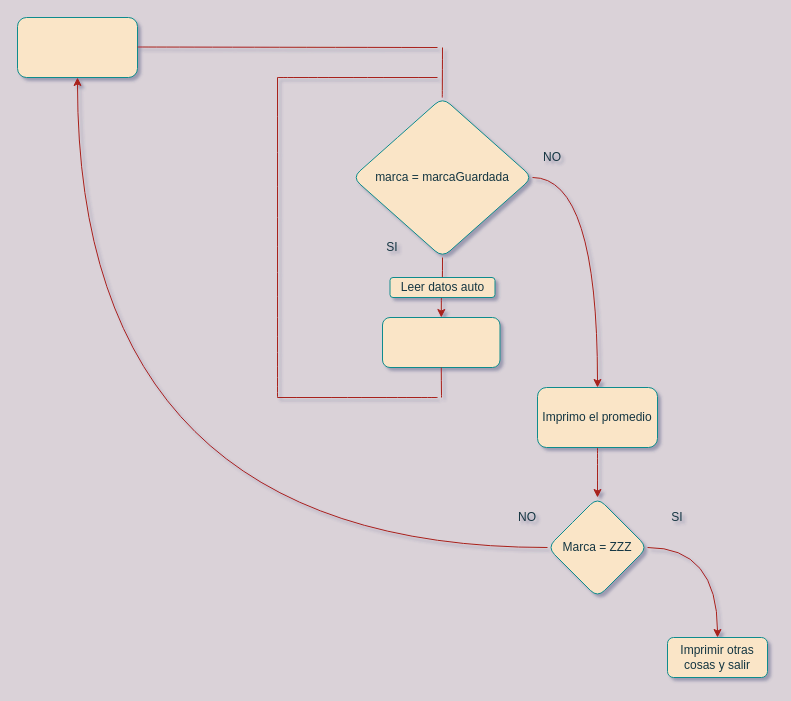
Image size: 791x701. Some labels were removed from this diagram. The box of each missing label's shape, as (x1, y1, x2, y2) in pixels:
Actualizo marca guardada: (16, 16, 138, 78)
Calcular y actualizar nuevo promedio: (382, 316, 500, 368)
